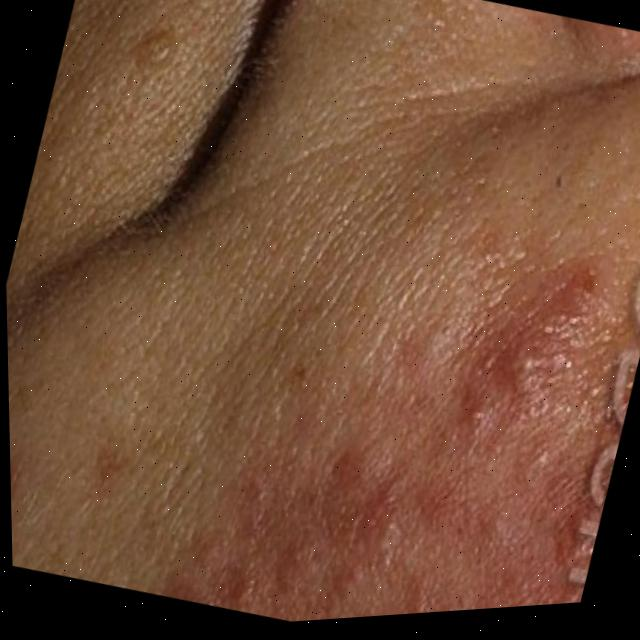Rosacea: (131, 159, 640, 632)
